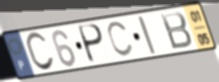6: (50, 27, 78, 68)
B: (158, 10, 194, 51)
C: (24, 30, 57, 73), (106, 20, 135, 59)
I: (136, 14, 159, 56)
P: (77, 23, 105, 65)
